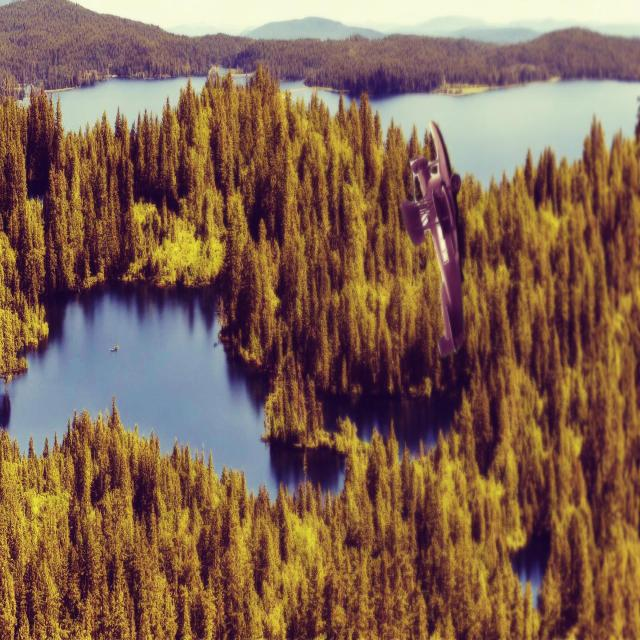airplane: (400, 119, 465, 358)
